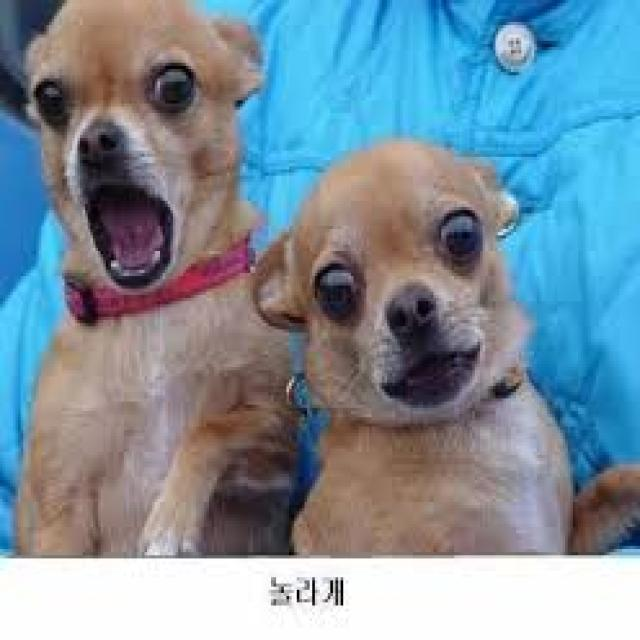dog: (17, 4, 308, 554), (250, 134, 580, 552)
